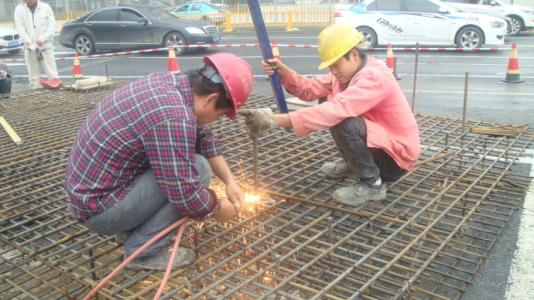boots: (122, 246, 195, 271), (332, 178, 386, 205), (319, 160, 351, 178), (40, 77, 62, 89)
gloves: (237, 106, 278, 139)
hard-hat: (201, 52, 253, 120), (316, 21, 363, 69)
person: (64, 51, 254, 270), (237, 22, 420, 207), (13, 1, 62, 90)
ppe-suit: (13, 4, 59, 86)
